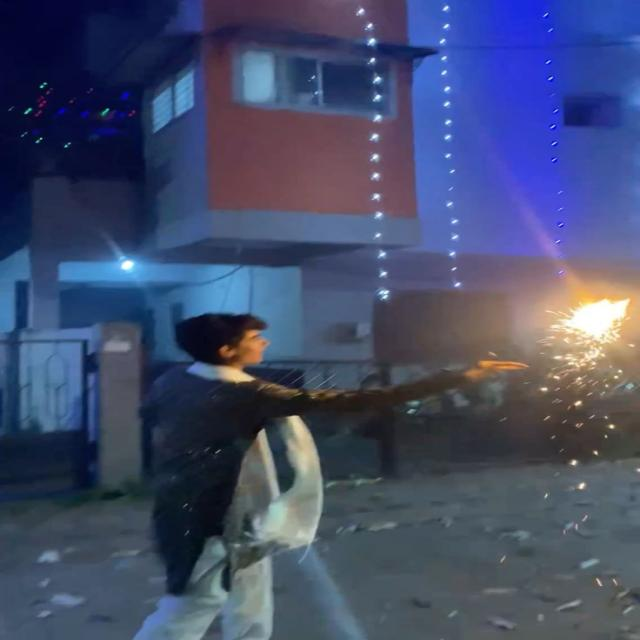fire: (557, 297, 626, 341)
